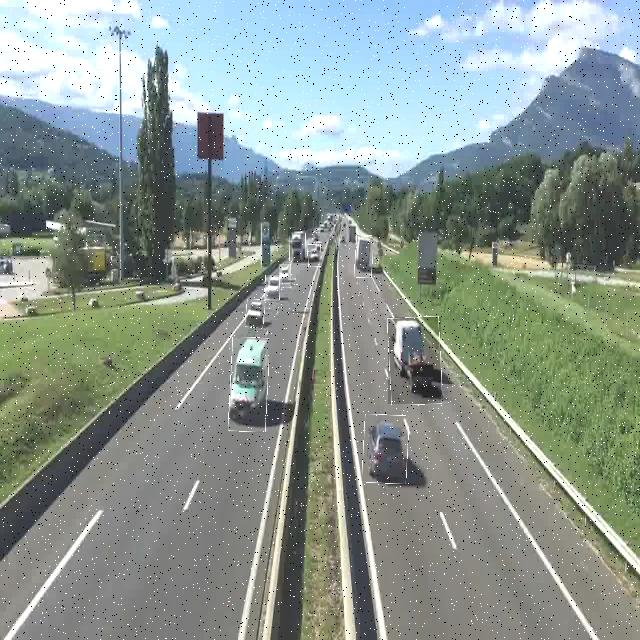Car: (363, 414, 409, 484), (245, 300, 265, 328), (265, 276, 280, 302), (279, 264, 291, 288), (308, 245, 321, 267)
Truck: (388, 317, 441, 404), (229, 338, 268, 432), (355, 236, 372, 278), (290, 227, 306, 265)
